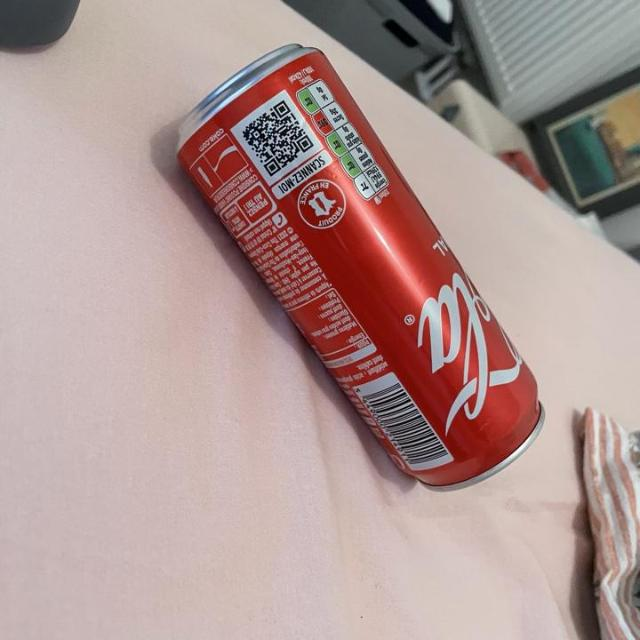can: (174, 38, 550, 494)
